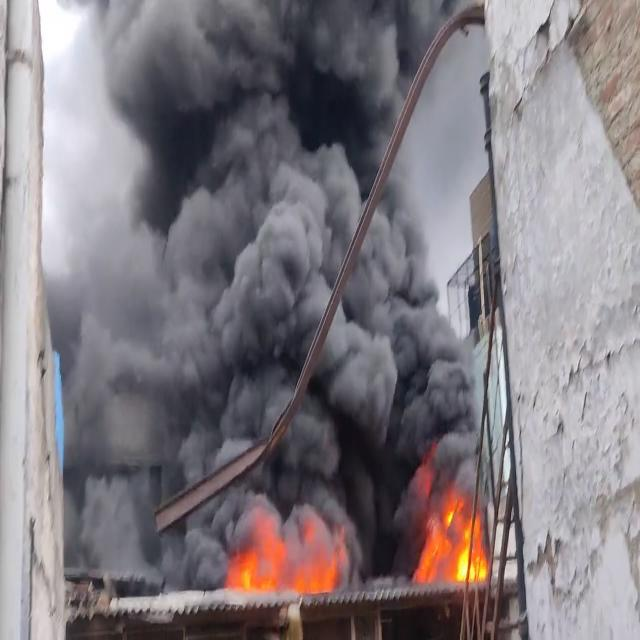Fire: (422, 490, 494, 591), (280, 510, 354, 598), (226, 516, 282, 595)
Smoke: (97, 20, 392, 491), (322, 216, 477, 463), (48, 20, 154, 363), (66, 388, 168, 589)
